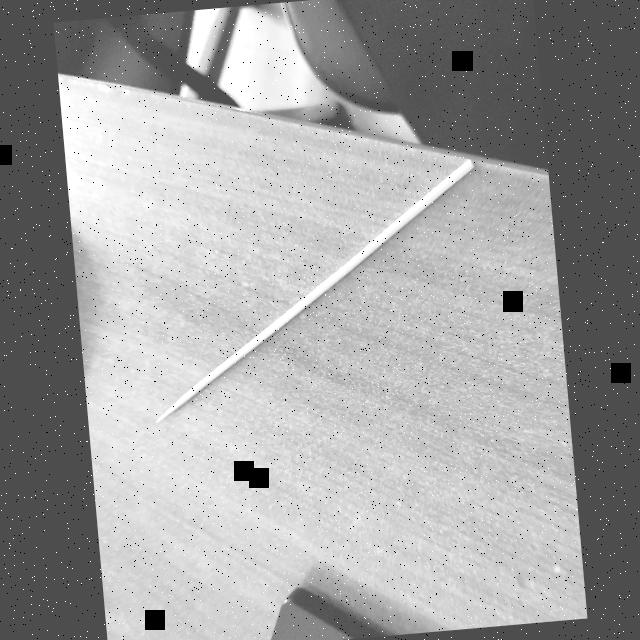stick: (120, 136, 514, 440)
